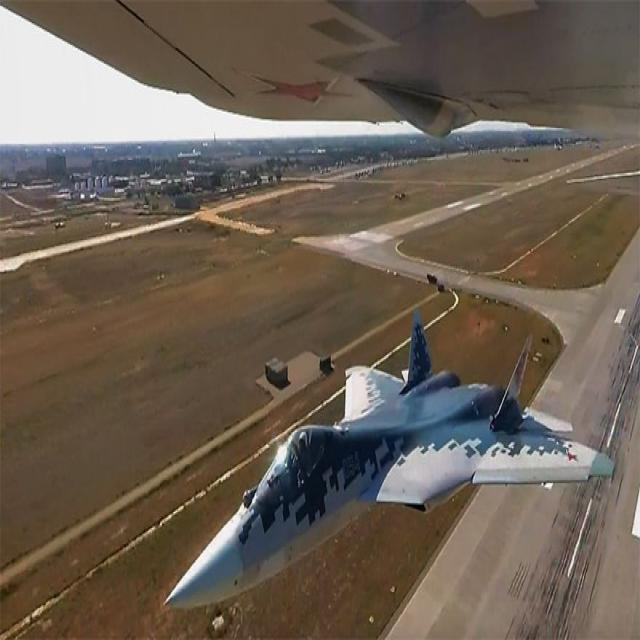MIL_Plane: (162, 310, 614, 608)
